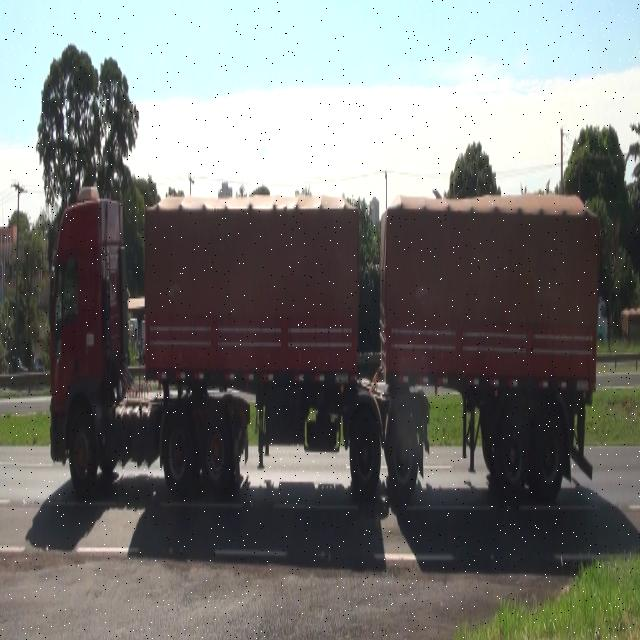-axle: (530, 399, 566, 507), (348, 411, 382, 510), (494, 403, 528, 500), (198, 409, 232, 504), (159, 407, 194, 497), (65, 403, 98, 493), (386, 413, 419, 501)
